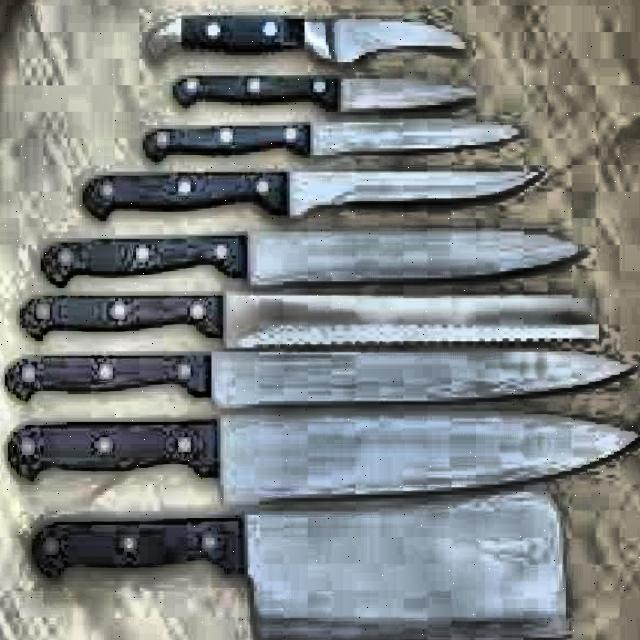knife: (25, 492, 579, 640), (3, 418, 640, 500), (12, 284, 614, 348), (8, 352, 640, 403), (39, 228, 610, 282), (82, 168, 549, 221), (138, 8, 468, 64), (137, 120, 514, 165), (169, 68, 492, 119)
